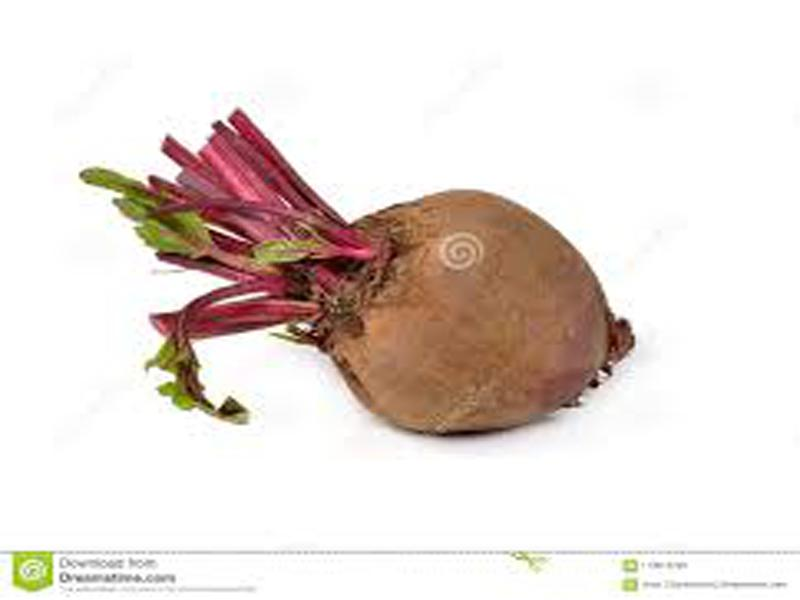Beet: (83, 112, 635, 431)
